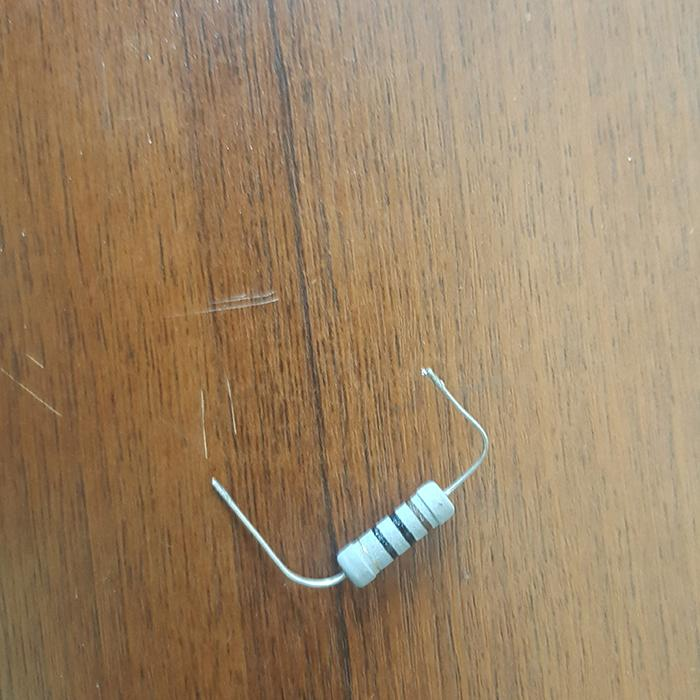resistor: (333, 477, 456, 590)
